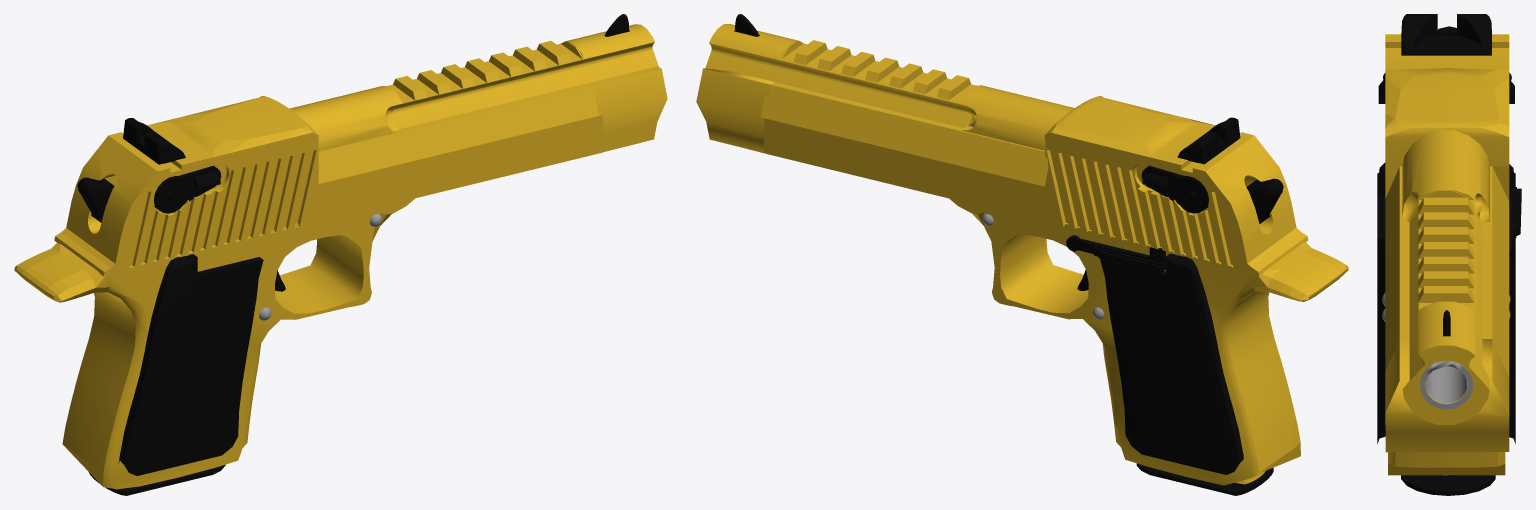
File: deserteagle.FBX
3 views of the same model, side by side, from view 1: azimuth 30°, elevation 25°; view 2: azimuth 150°, elevation 25°; view 3: azimuth 270°, elevation 25° (orthographic). The views are drawn at different scales.
Parts seen in each view (by area): view 1: deserteagle, deserteagle_slide, desert eagle_mag; view 2: deserteagle, deserteagle_slide, desert eagle_mag; view 3: deserteagle, deserteagle_slide, desert eagle_mag.
Part boxes in pixels (x1,y1,x2,y2): deserteagle: (14, 14, 667, 489); deserteagle_slide: (54, 82, 602, 276); desert eagle_mag: (89, 464, 225, 495); deserteagle: (696, 14, 1348, 485); deserteagle_slide: (760, 82, 1308, 276); desert eagle_mag: (1136, 463, 1273, 495); deserteagle: (1377, 130, 1521, 475); deserteagle_slide: (1378, 14, 1514, 376); desert eagle_mag: (1401, 475, 1495, 495).
Size of the model in its own units: 10.18 by 5.47 by 1.65.
